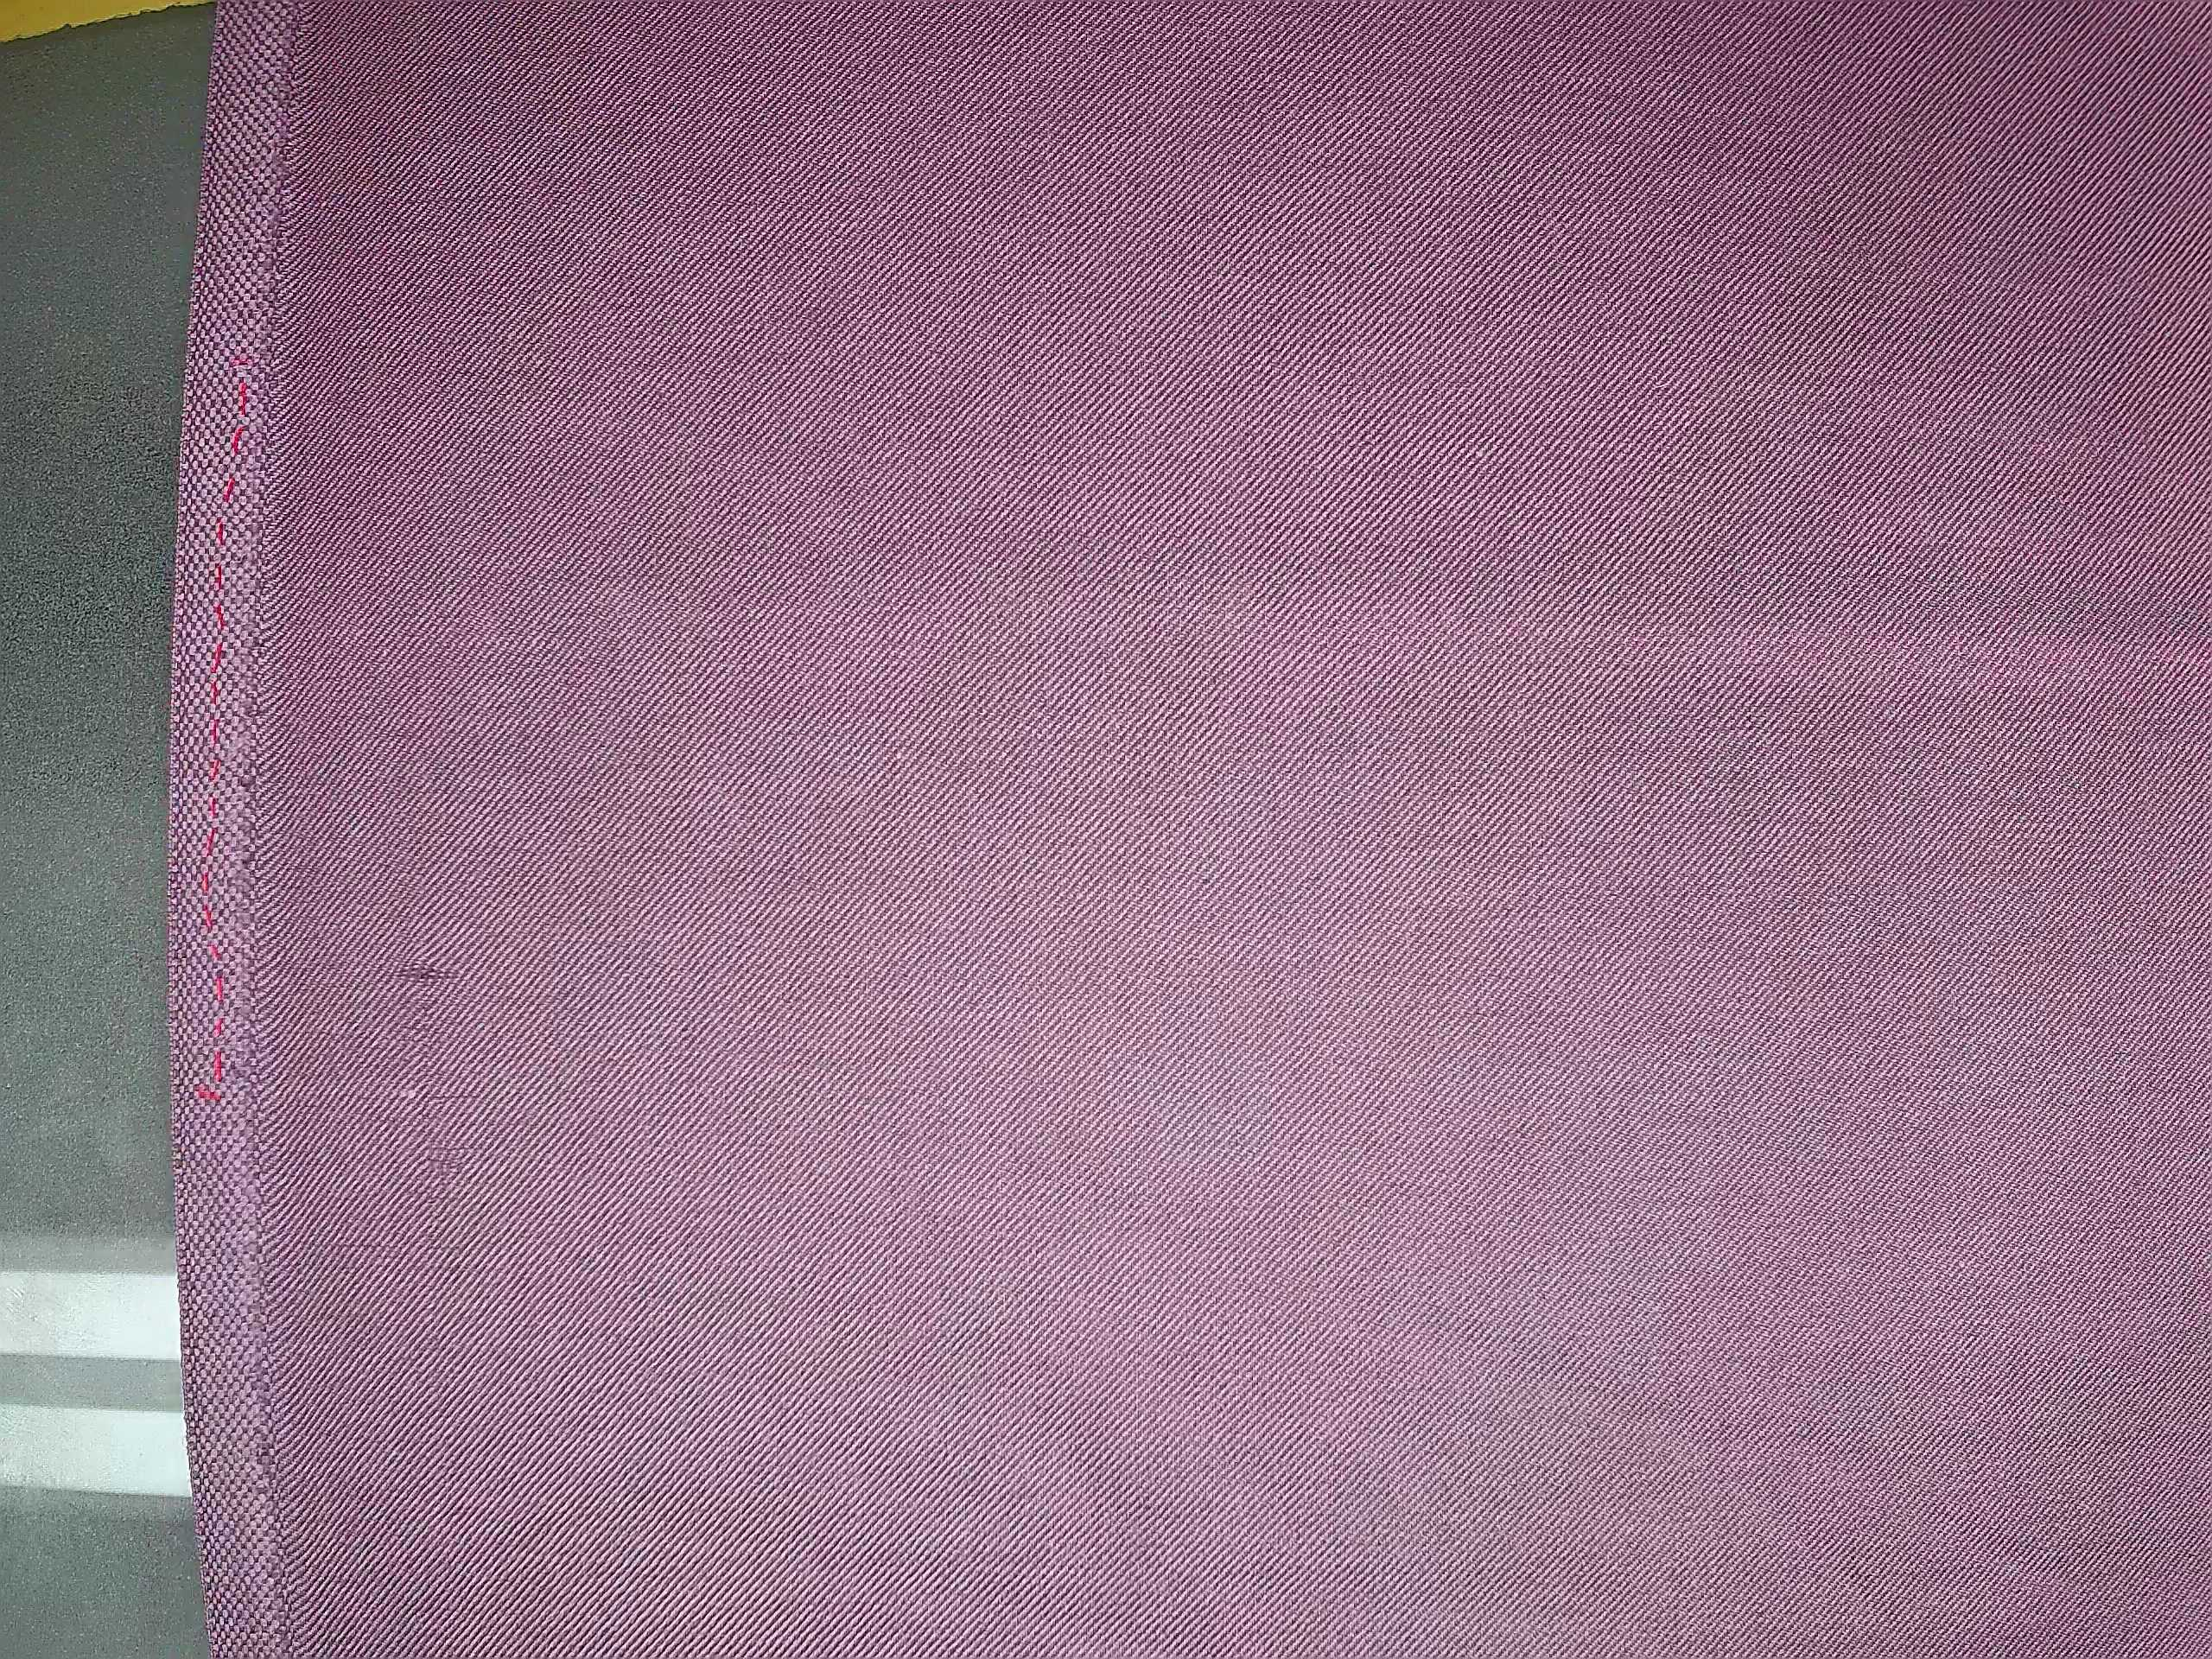jumps: (387, 938, 491, 1218)
